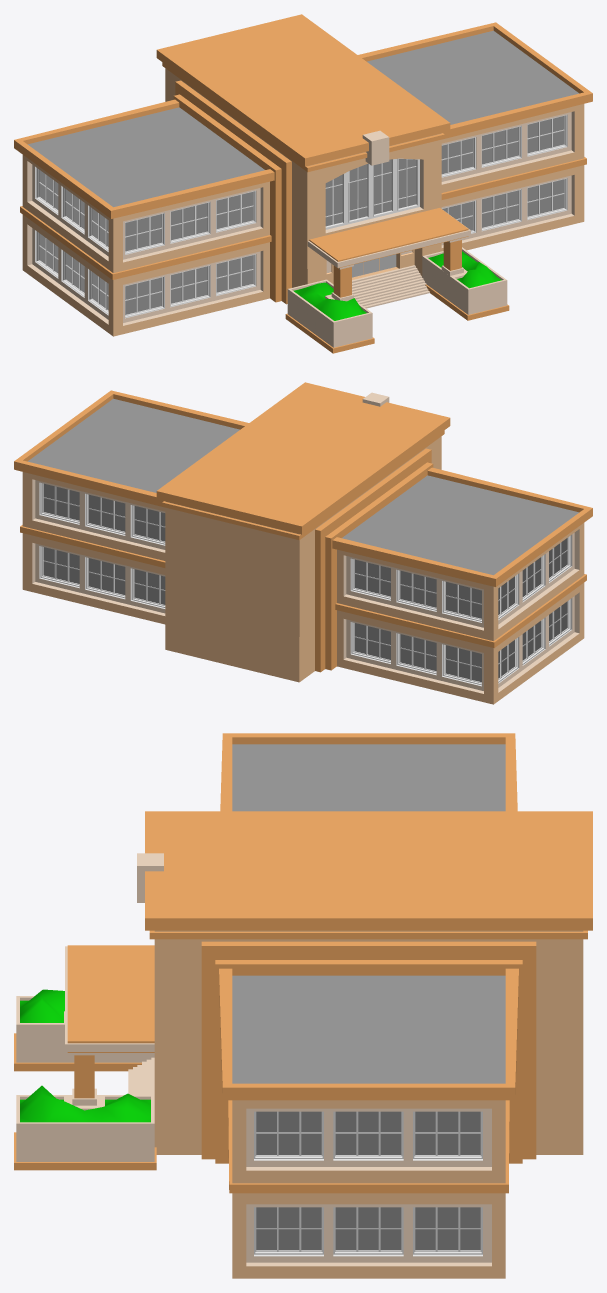
Rendered from SM_School_01.FBX.
The picture shows the model from 3 angles, top to bottom: view 1: azimuth 30°, elevation 25°; view 2: azimuth 150°, elevation 25°; view 3: azimuth 270°, elevation 25°; orthographic projection. The views are drawn at different scales.
Visible parts, largest first — view 1: SM_School_01; view 2: SM_School_01; view 3: SM_School_01.
Boxes of the visible parts, bbox=[...] form: SM_School_01: bbox=[14, 14, 592, 353]; SM_School_01: bbox=[14, 382, 592, 704]; SM_School_01: bbox=[14, 733, 592, 1278].
Size of the model in its own units: 16.65 by 5.38 by 11.49.
Materials: 1 (1 with a texture image).
